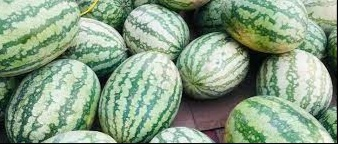watermelon: (100, 50, 184, 135), (10, 61, 97, 143), (253, 50, 332, 119), (180, 32, 247, 102), (125, 4, 190, 55)
